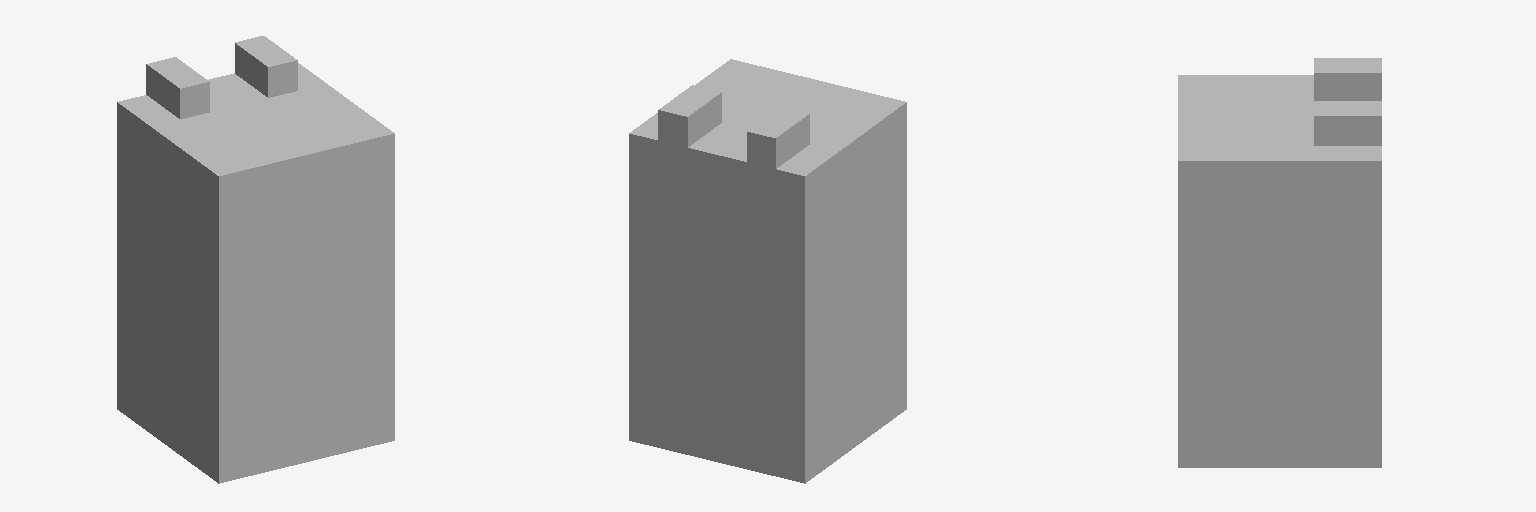
Rendered from catto.obj.
3 renders of one model, left to right at view 1: azimuth 30°, elevation 25°; view 2: azimuth 150°, elevation 25°; view 3: azimuth 270°, elevation 25°, orthographic.
Size of the model in its own units: 6 by 11 by 6.